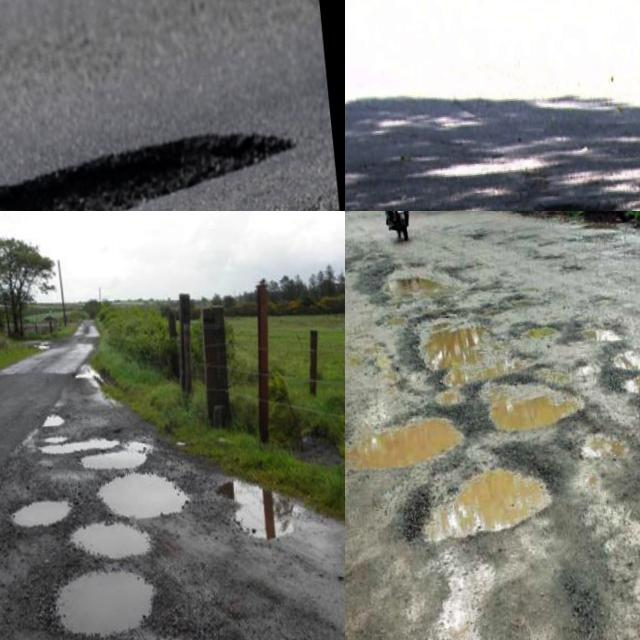Potholes: (0, 90, 344, 211), (7, 525, 311, 640), (0, 455, 207, 617), (393, 428, 572, 588), (454, 343, 638, 491), (357, 89, 545, 211), (345, 363, 477, 507), (384, 280, 545, 397), (207, 452, 337, 596), (464, 114, 640, 211), (18, 397, 168, 507), (552, 281, 640, 394), (362, 249, 454, 330), (64, 346, 115, 410)
